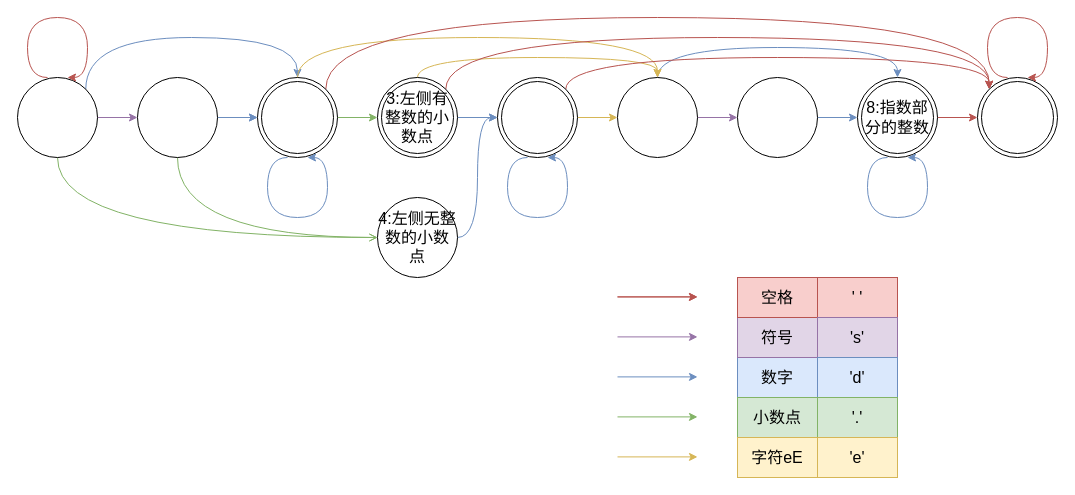
This 1075x495 diagram has some shape labels left out. The shapes that lost their labels are listed below. From the top down, each one's centre as x and y in pixels, then its label:
At point 57,117: "0:起始的空格".
At point 177,117: "1:符号位".
At point 297,117: "2:整数部分".
At point 537,117: "5:小数部分".
At point 657,117: "6:字符eE".
At point 777,117: "7:指数部分的符号位".
At point 1017,117: "9:末尾的空格".
